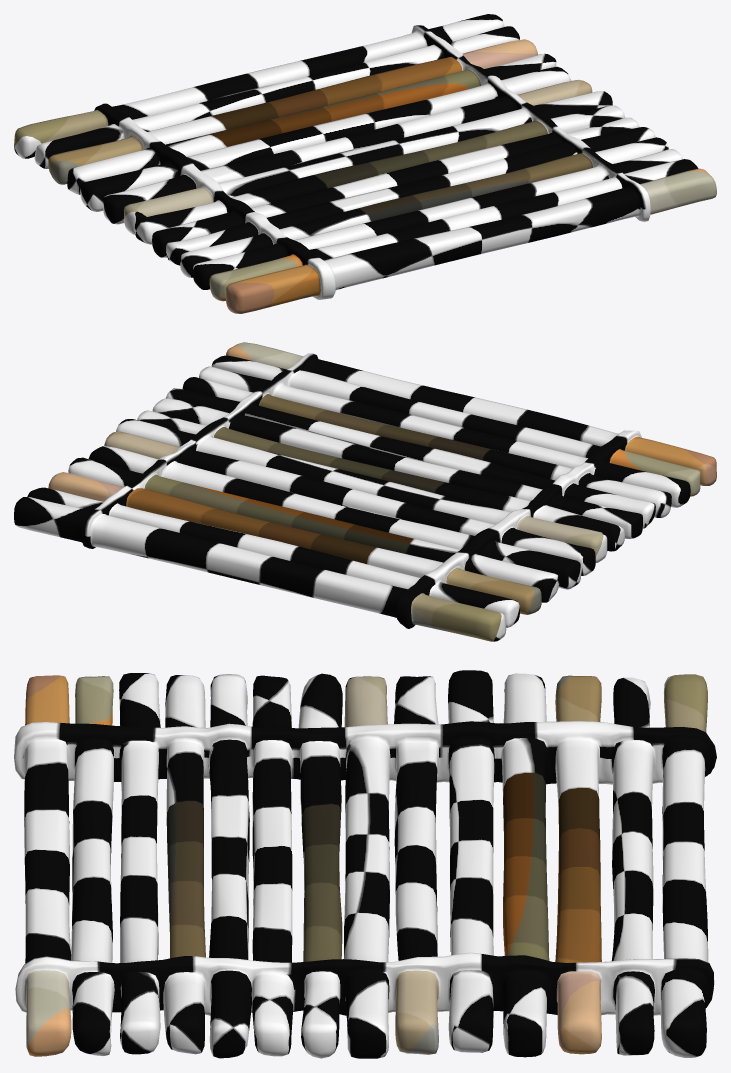
File: Raft 1.fbx
3 renders of one model, top to bottom at view 1: azimuth 30°, elevation 25°; view 2: azimuth 150°, elevation 25°; view 3: azimuth 270°, elevation 25°, orthographic. The views are drawn at different scales.
Visible parts, largest first — view 1: Raft; view 2: Raft; view 3: Raft.
Part boxes in pixels (x1,y1,x2,y2): Raft: (14, 14, 716, 313); Raft: (14, 342, 716, 641); Raft: (14, 670, 716, 1058).
Size of the model in its own units: 1095 by 87.92 by 907.
